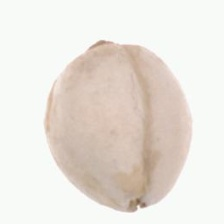L1: (79, 38, 132, 52), (123, 196, 154, 214)
L2: (44, 40, 193, 213)
